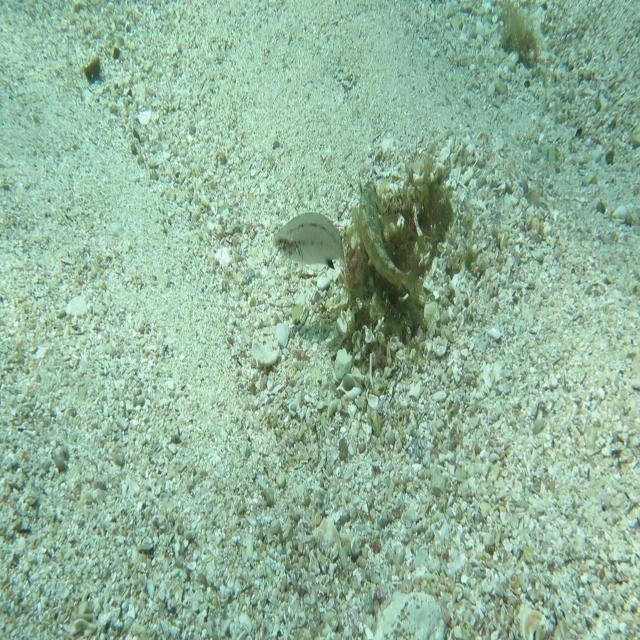BEND_OPP: (355, 169, 428, 316)
female: (270, 210, 354, 281)
nest: (332, 152, 464, 371)
